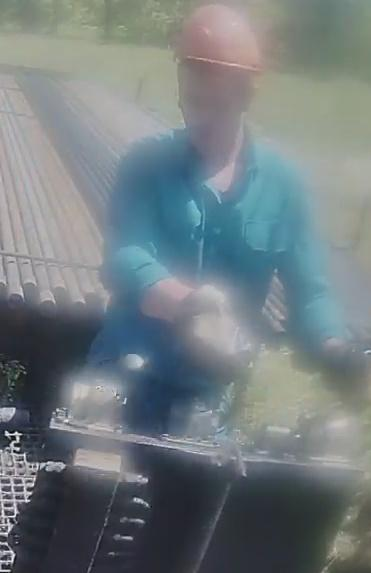gloves: (167, 281, 262, 378), (319, 331, 371, 412)
helmet: (173, 4, 264, 73)
vest: (108, 130, 320, 379)
